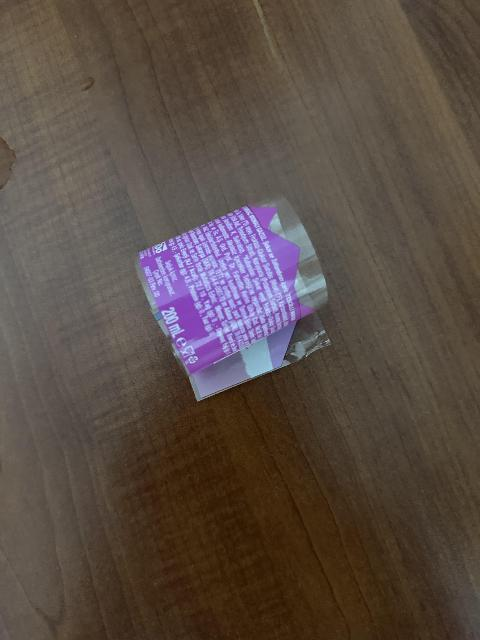Plastik: (132, 200, 338, 400)
